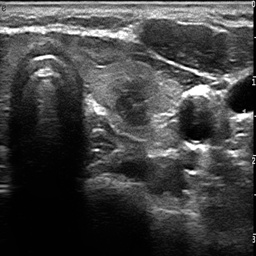mass: (106, 79, 151, 126)
